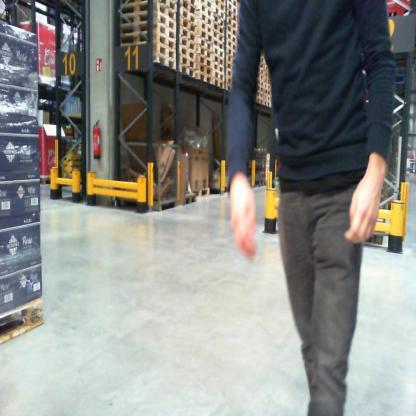pallets: (112, 0, 273, 112), (152, 184, 242, 214)
